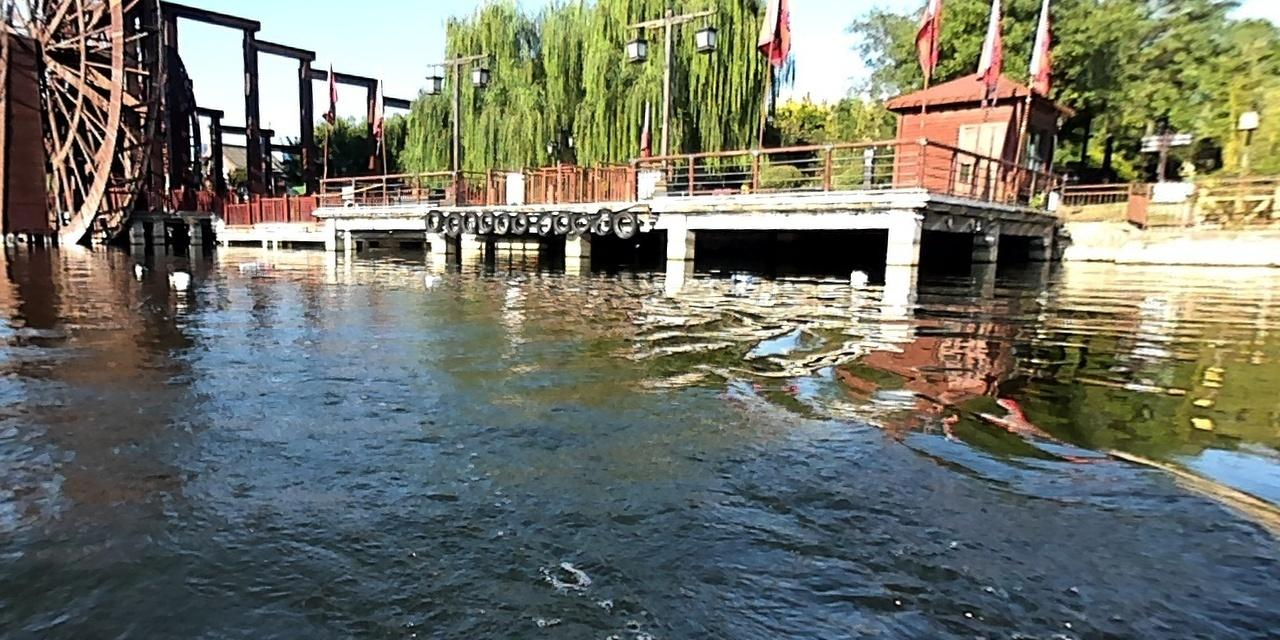bottle: (162, 268, 191, 283)
